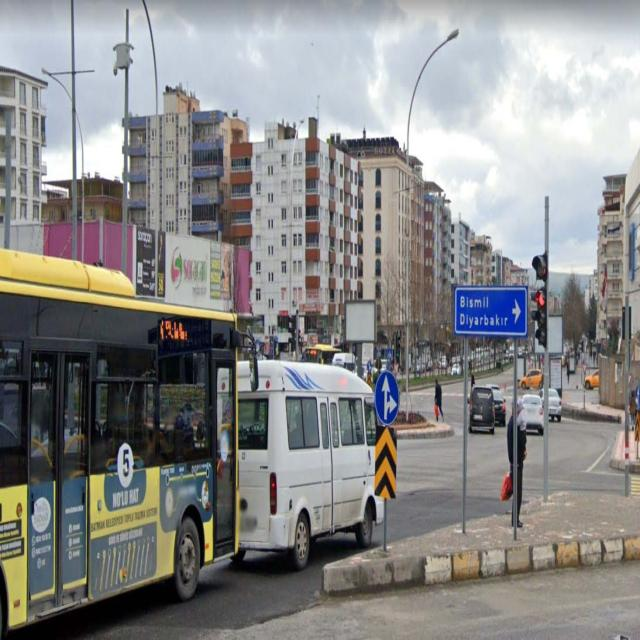ilerisag: (376, 371, 398, 420)
kirmizi: (535, 288, 547, 342)
